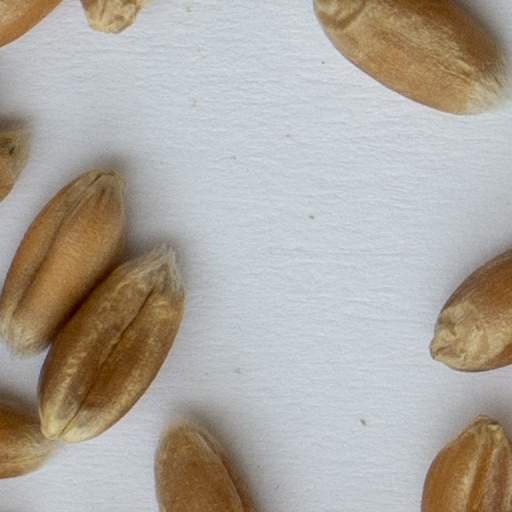Wheat-grain-poly: (42, 245, 184, 442), (311, 0, 511, 123), (0, 167, 125, 363), (433, 248, 511, 369), (78, 0, 174, 39), (0, 121, 34, 205), (0, 0, 57, 47)
